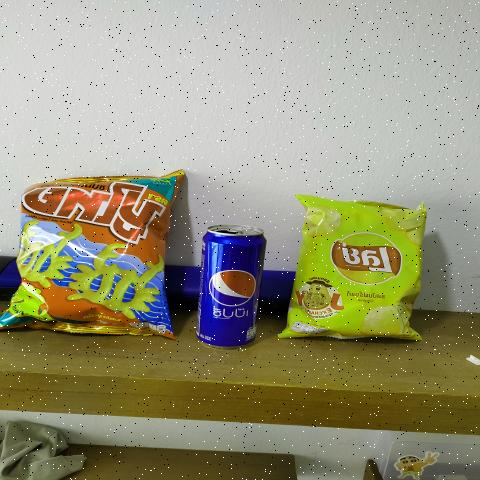pepsi_blue: (194, 218, 267, 352)
